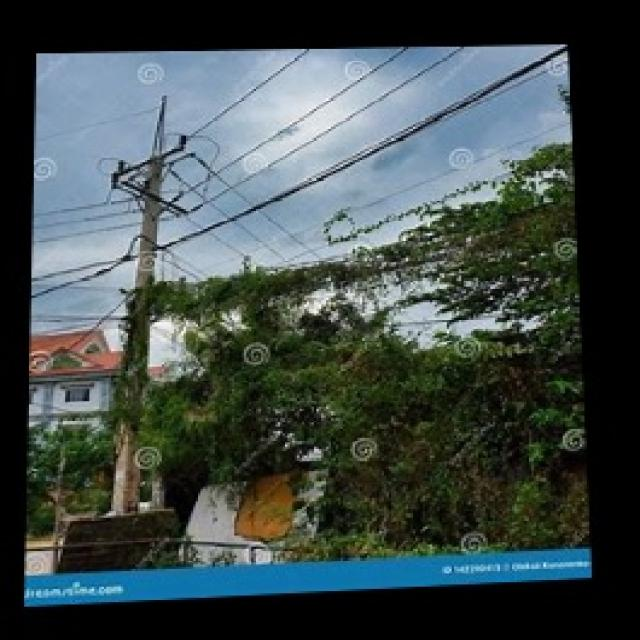critical vegetation: (145, 252, 573, 362)
